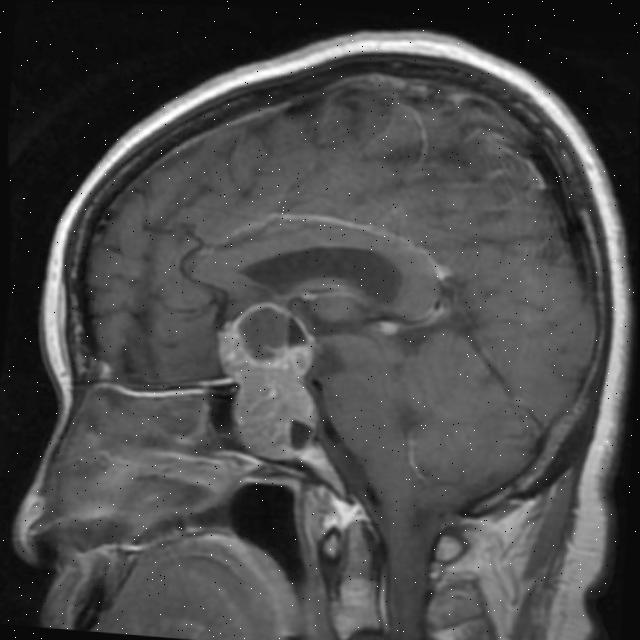Pituitary: (210, 297, 325, 463)
